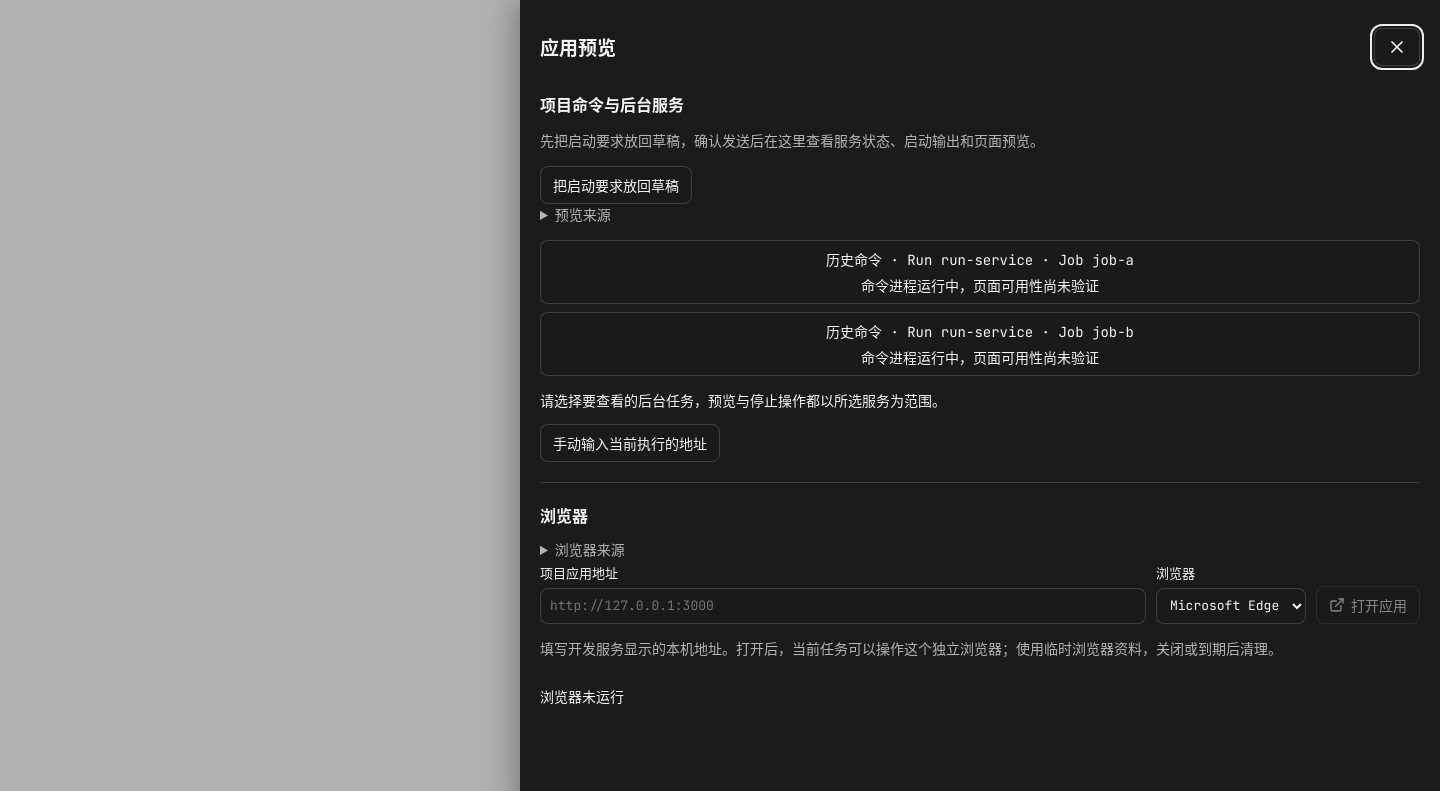
Test case: stops only the selected service while closing the browser leaves both service Jobs alone
Click the button "历史命令 · Run run-service · Job job-b 命令进程运行中，页面可用性尚未验证": (854, 332) [540,312,1420,376]
(page scrolled)
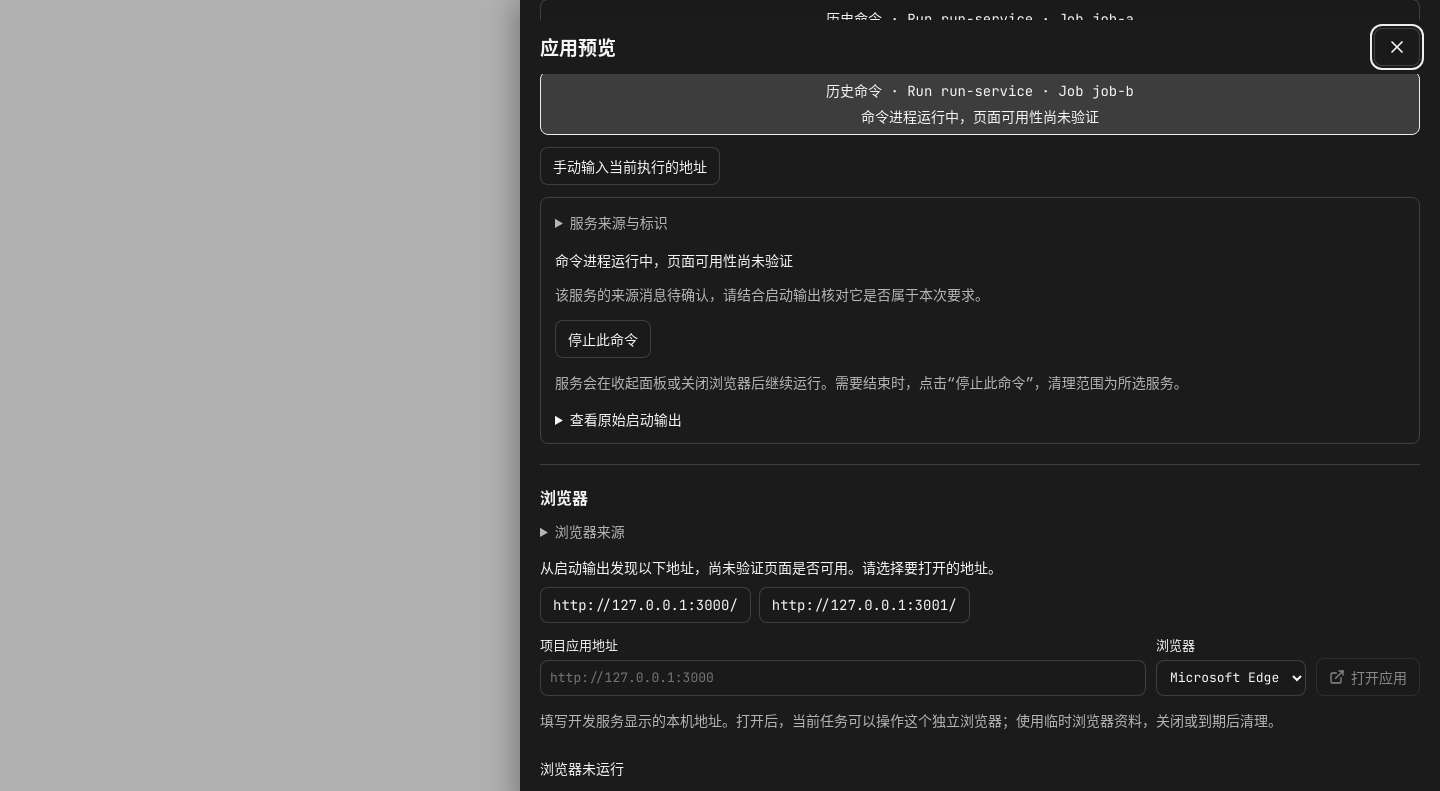
Click the button with aria-label "选择地址 http://127.0.0.1:3001/": (864, 605) [759,587,970,623]
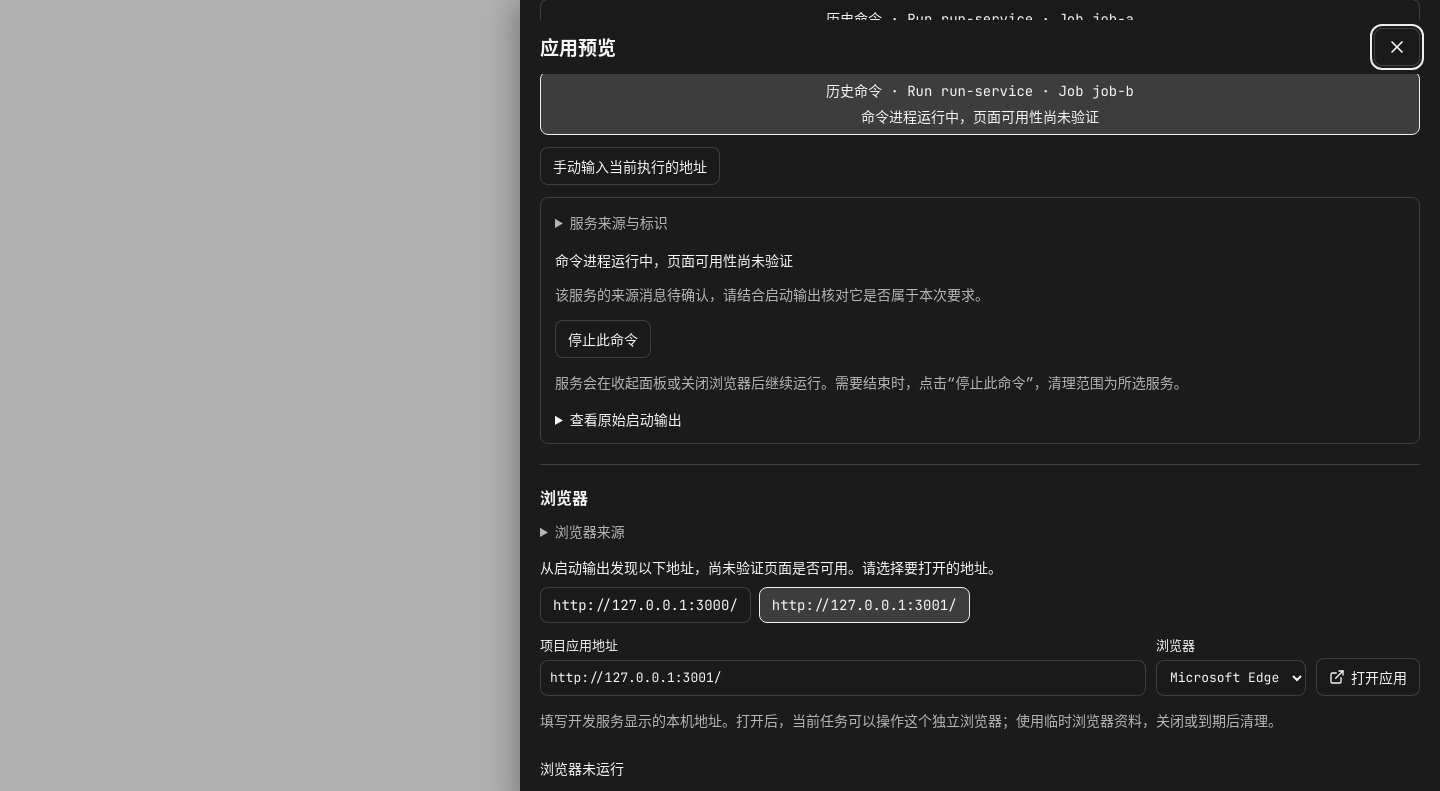
expect the button "打开应用" is enabled: met
Click the button "打开应用": (1368, 677) [1316,658,1420,696]
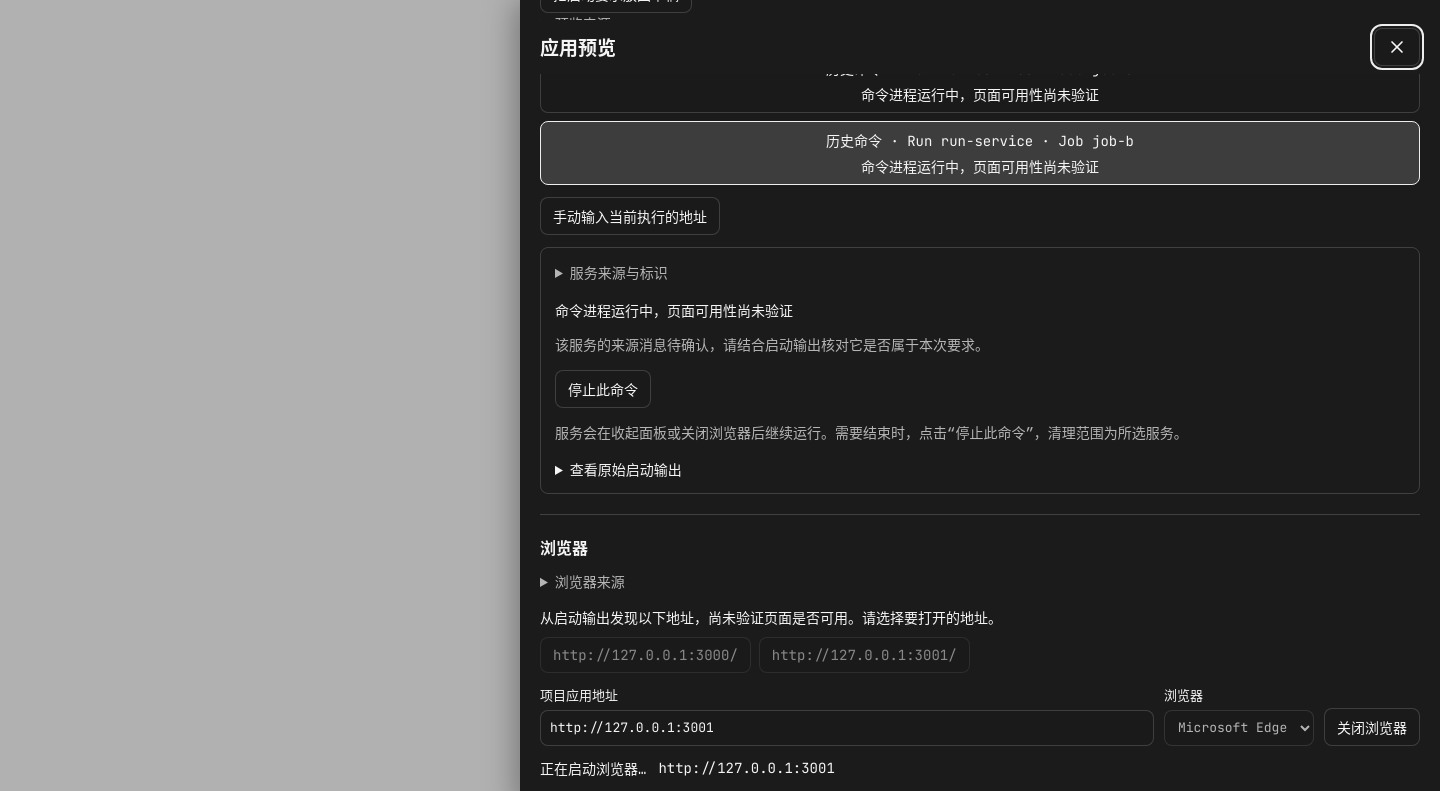
Click the button "关闭浏览器": (1372, 727) [1324,708,1420,746]
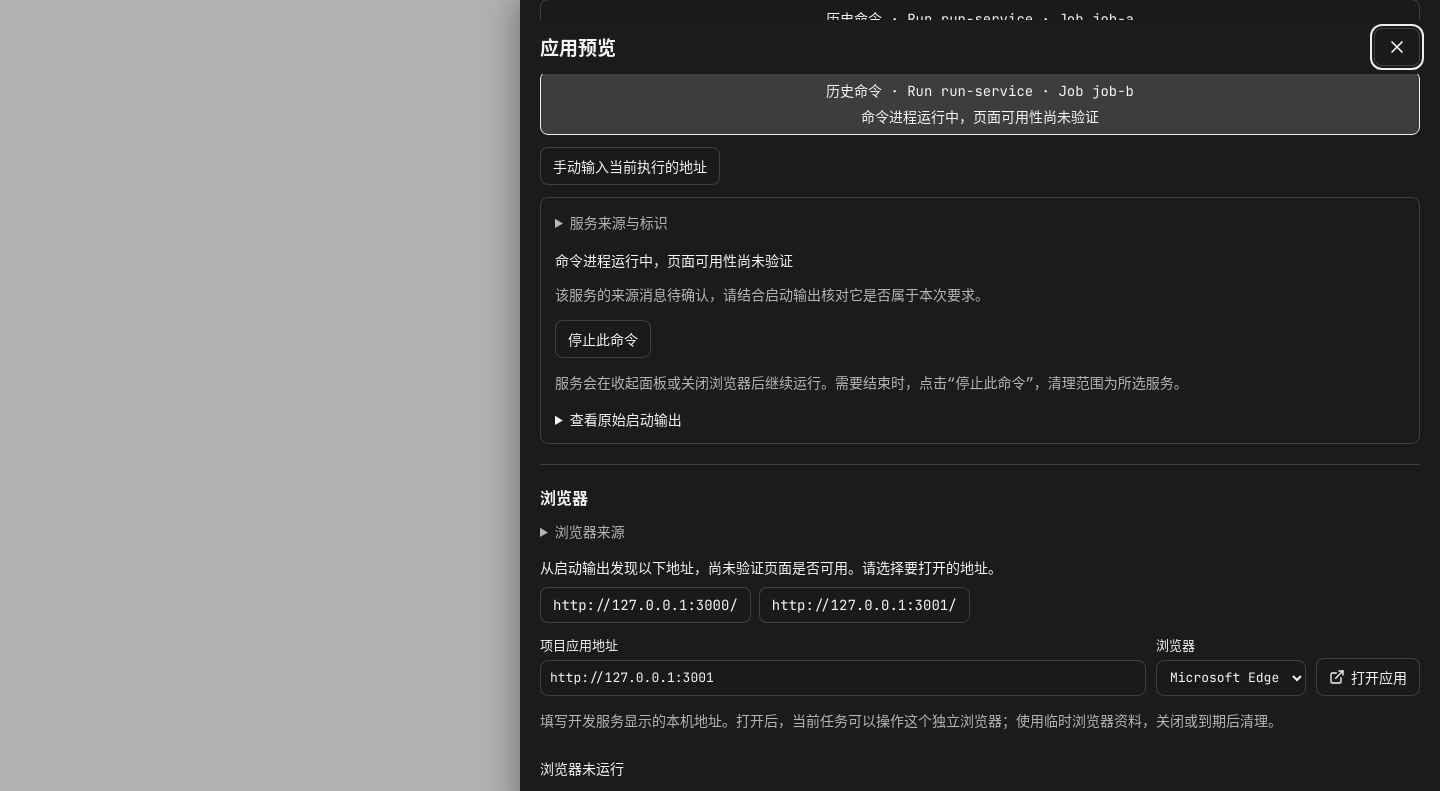
Click the button "停止此命令": (603, 339) [555,320,651,358]
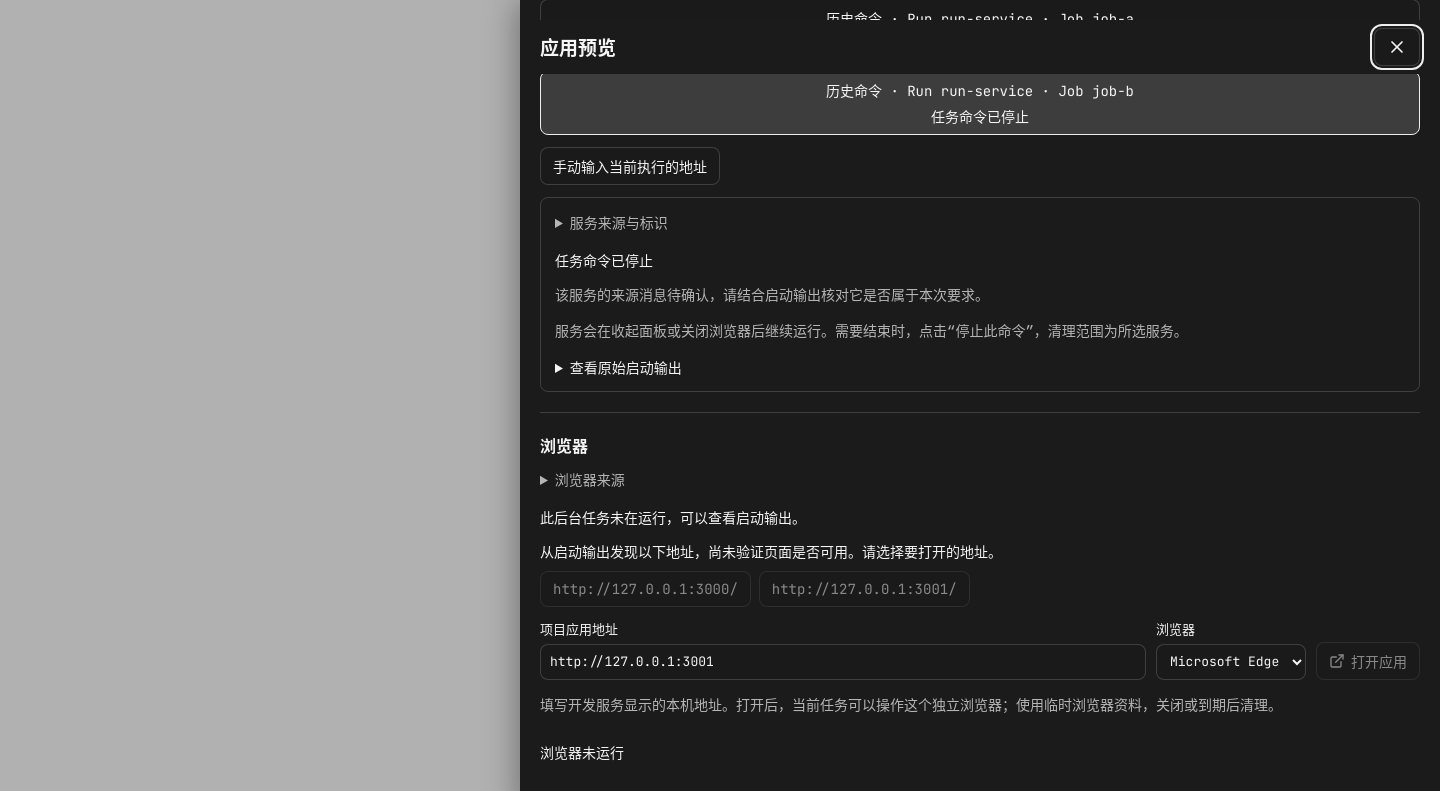
expect the button "历史命令 · Run run-service · Job job-a 命令进程运行中，页面可用性尚未验证" is shown: met, box [540,0,1420,63]
expect the text "任务命令已停止" is shown: met, box [555,252,653,270]
